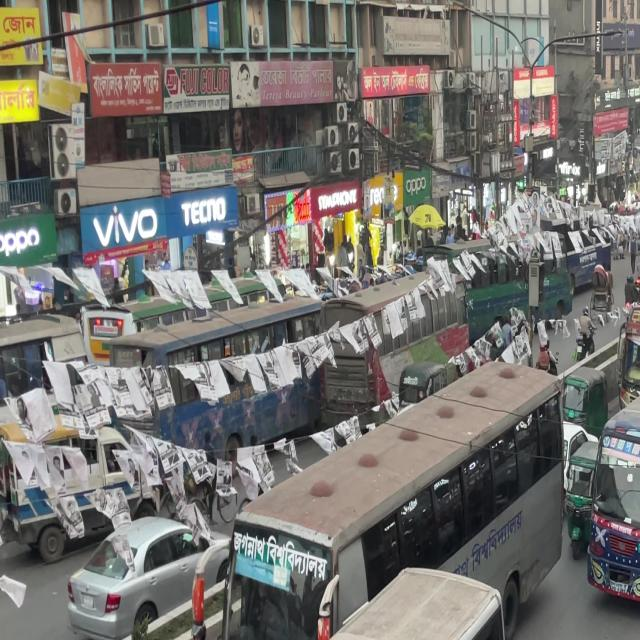bus: (176, 356, 571, 640), (59, 544, 526, 640), (580, 293, 640, 610), (619, 263, 640, 409)
car: (65, 514, 212, 640)
